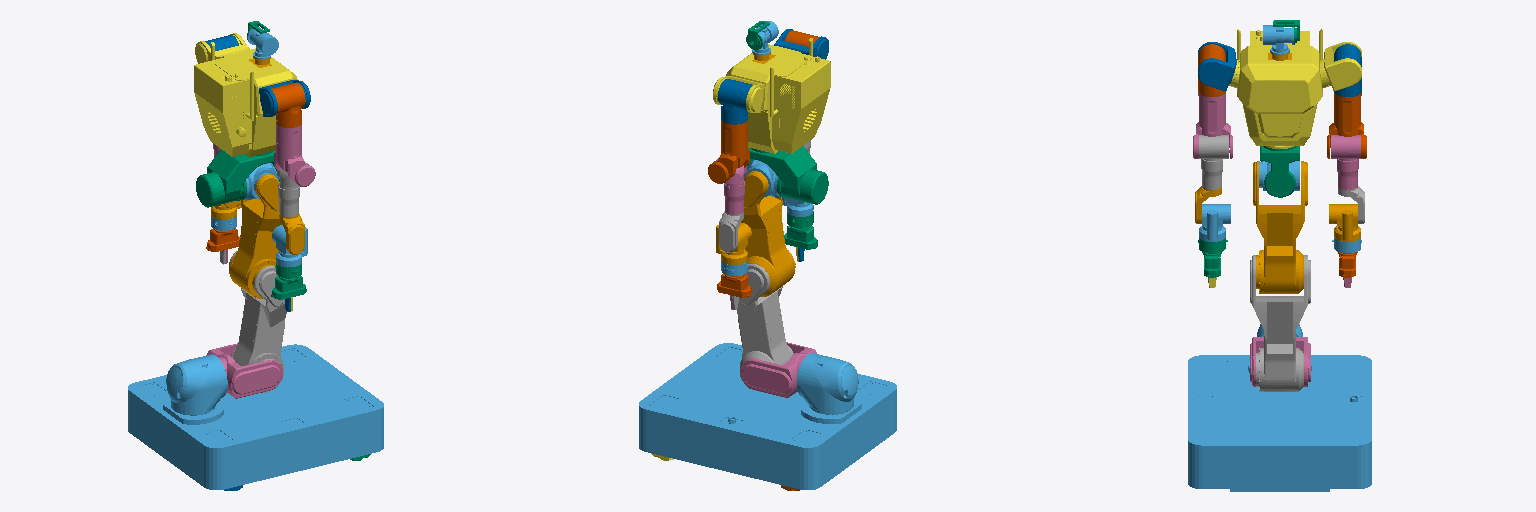
URDF robot description (rby1):
<robot name="rby1"><link name="base_footprint" /><joint name="base_footprint_joint" type="fixed"><parent link="base_footprint" /><child link="base" /><origin rpy="0 0 0" xyz="0.0 0 0" /></joint><link name="base"><visual><geometry><mesh filename="meshes/base.stl" /></geometry></visual></link><link name="wheel_fr_link"><visual><geometry><mesh filename="meshes/MECANUM_WHEEL.stl" /></geometry></visual></link><link name="wheel_fl_link"><visual><geometry><mesh filename="meshes/MECANUM_WHEEL_M.stl" /></geometry></visual></link><link name="wheel_rr_link"><visual><geometry><mesh filename="meshes/MECANUM_WHEEL_M.stl" /></geometry></visual></link><link name="wheel_rl_link"><visual><geometry><mesh filename="meshes/MECANUM_WHEEL.stl" /></geometry></visual></link><link name="link_torso_0"><visual><geometry><mesh filename="meshes/LINK_1.stl" /></geometry></visual></link><link name="link_torso_1"><visual><geometry><mesh filename="meshes/LINK_2.stl" /></geometry></visual></link><link name="link_torso_2"><visual><geometry><mesh filename="meshes/LINK_3.stl" /></geometry></visual></link><link name="link_torso_3"><visual><geometry><mesh filename="meshes/LINK_4.stl" /></geometry></visual></link><link name="link_torso_4"><visual><geometry><mesh filename="meshes/LINK_5.stl" /></geometry></visual></link><link name="link_torso_5"><visual><geometry><mesh filename="meshes/LINK_6.stl" /></geometry></visual></link><link name="link_right_arm_0"><visual><geometry><mesh filename="meshes/LINK_7.stl" /></geometry></visual></link><link name="link_right_arm_1"><visual><geometry><mesh filename="meshes/LINK_8.stl" /></geometry></visual></link><link name="link_right_arm_2"><visual><geometry><mesh filename="meshes/LINK_9.stl" /></geometry></visual></link><link name="link_right_arm_3"><visual><geometry><mesh filename="meshes/LINK_10.stl" /></geometry></visual></link><link name="link_right_arm_4"><visual><geometry><mesh filename="meshes/LINK_11.stl" /></geometry></visual></link><link name="link_right_arm_5"><visual><geometry><mesh filename="meshes/LINK_12_v1.1.stl" /></geometry></visual></link><link name="link_right_arm_6"><visual><geometry><mesh filename="meshes/LINK_13_v1.1.stl" /></geometry></visual></link><link name="link_left_arm_0"><visual><geometry><mesh filename="meshes/LINK_14.stl" /></geometry></visual></link><link name="link_left_arm_1"><visual><geometry><mesh filename="meshes/LINK_15.stl" /></geometry></visual></link><link name="link_left_arm_2"><visual><geometry><mesh filename="meshes/LINK_16.stl" /></geometry></visual></link><link name="link_left_arm_3"><visual><geometry><mesh filename="meshes/LINK_17.stl" /></geometry></visual></link><link name="link_left_arm_4"><visual><geometry><mesh filename="meshes/LINK_18.stl" /></geometry></visual></link><link name="link_left_arm_5"><visual><geometry><mesh filename="meshes/LINK_19_v1.1.stl" /></geometry></visual></link><link name="link_left_arm_6"><visual><geometry><mesh filename="meshes/LINK_20_v1.1.stl" /></geometry></visual></link><link name="ee_right"><visual><geometry><mesh filename="meshes/EE_BODY.stl" /></geometry></visual></link><link name="ee_finger_r1"><visual><geometry><mesh filename="meshes/EE_FINGER.stl" /></geometry></visual></link><link name="ee_finger_r2"><visual><geometry><mesh filename="meshes/EE_FINGER.stl" /></geometry></visual></link><link name="ee_left"><visual><geometry><mesh filename="meshes/EE_BODY.stl" /></geometry></visual></link><link name="ee_finger_l1"><visual><geometry><mesh filename="meshes/EE_FINGER.stl" /></geometry></visual></link><link name="ee_finger_l2"><visual><geometry><mesh filename="meshes/EE_FINGER.stl" /></geometry></visual></link><link name="link_head_0"><visual><geometry><mesh filename="meshes/NECK_0.stl" /></geometry></visual></link><link name="link_head_1"><visual><geometry><mesh filename="meshes/NECK_1.stl" /></geometry></visual></link><link name="link_head_2"><visual><geometry><mesh filename="meshes/NECK_2.stl" /></geometry></visual></link><joint name="wheel_fr" type="continuous"><parent link="base" /><child link="wheel_fr_link" /><origin rpy="0.0 0.0 0.0" xyz="0.243 -0.245 0.076" /><axis xyz="0 1 0" /><limit effort="60.0" velocity="15.707963268" /></joint><joint name="wheel_fl" type="continuous"><parent link="base" /><child link="wheel_fl_link" /><origin rpy="0.0 0.0 0.0" xyz="0.243 0.245 0.076" /><axis xyz="0 1 0" /><limit effort="60.0" velocity="15.707963268" /></joint><joint name="wheel_rr" type="continuous"><parent link="base" /><child link="wheel_rr_link" /><origin rpy="0.0 0.0 0.0" xyz="-0.247 -0.245 0.076" /><axis xyz="0 1 0" /><limit effort="60.0" velocity="15.707963268" /></joint><joint name="wheel_rl" type="continuous"><parent link="base" /><child link="wheel_rl_link" /><origin rpy="0.0 0.0 0.0" xyz="-0.247 0.245 0.076" /><axis xyz="0 1 0" /><limit effort="60.0" velocity="15.707963268" /></joint><joint name="torso_0" type="revolute"><parent link="base" /><child link="link_torso_0" /><origin rpy="0.0 0.0 0.0" xyz="0.0 0.0 0.2965" /><axis xyz="1 0 0" /><limit effort="270.0" lower="-0.261799388" upper="0.261799388" velocity="2.09439510" /></joint><joint name="torso_1" type="revolute"><parent link="link_torso_0" /><child link="link_torso_1" /><origin rpy="0.0 0.0 0.0" xyz="0.0 0.0 0.0" /><axis xyz="0 1 0" /><limit effort="270.0" lower="-0.523598776" upper="1.570796327" velocity="2.09439510" /></joint><joint name="torso_2" type="revolute"><parent link="link_torso_1" /><child link="link_torso_2" /><origin rpy="0.0 0.0 0.0" xyz="0.0 0.0 0.350" /><axis xyz="0 1 0" /><limit effort="270.0" lower="-2.617993878" upper="1.570796327" velocity="2.09439510" /></joint><joint name="torso_3" type="revolute"><parent link="link_torso_2" /><child link="link_torso_3" /><origin rpy="0.0 0.0 0.0" xyz="0.0 0.0 0.350" /><axis xyz="0 1 0" /><limit effort="120.0" lower="-0.785398163" upper="1.570796327" velocity="3.141592654" /></joint><joint name="torso_4" type="revolute"><parent link="link_torso_3" /><child link="link_torso_4" /><origin rpy="0.0 0.0 0.0" xyz="0.0 0.0 0.0" /><axis xyz="1 0 0" /><limit effort="120.0" lower="-0.523598776" upper="0.523598776" velocity="3.141592654" /></joint><joint name="torso_5" type="revolute"><parent link="link_torso_4" /><child link="link_torso_5" /><origin rpy="0.0 0.0 0.0" xyz="0.0 0.0 0.309426548461" /><axis xyz="0 0 1" /><limit effort="120.0" lower="-2.35619449" upper="2.35619449" velocity="3.141592654" /></joint><joint name="right_arm_0" type="revolute"><parent link="link_torso_5" /><child link="link_right_arm_0" /><origin rpy="0.0 0.0 0.0" xyz="0.0 -0.220 0.080073451539 " /><axis xyz="0.0 0.93969262 -0.34202014" /><limit effort="70.0" lower="-3.141592654" upper="3.141592654" velocity="3.141592654" /></joint><joint name="right_arm_1" type="revolute"><parent link="link_right_arm_0" /><child link="link_right_arm_1" /><origin rpy="0.0 0.0 0.0" xyz="0.0 0.0 0.0" /><axis xyz="1 0 0" /><limit effort="70.0" lower="-3.141592654" upper="0.017453293" velocity="3.141592654" /></joint><joint name="right_arm_2" type="revolute"><parent link="link_right_arm_1" /><child link="link_right_arm_2" /><origin rpy="0.0 0.0 0.0" xyz="0.0 0.0 0.0" /><axis xyz="0 0 1" /><limit effort="70.0" lower="-3.141592654" upper="3.141592654" velocity="3.141592654" /></joint><joint name="right_arm_3" type="revolute"><parent link="link_right_arm_2" /><child link="link_right_arm_3" /><origin rpy="0.0 0.0 0.0" xyz="0.031 0.0 -0.276" /><axis xyz="0 1 0" /><limit effort="40.0" lower="-2.617993878" upper="0.017453293" velocity="3.141592654" /></joint><joint name="right_arm_4" type="revolute"><parent link="link_right_arm_3" /><child link="link_right_arm_4" /><origin rpy="0.0 0.0 0.0" xyz="-0.031 0.0 -0.256" /><axis xyz="0 0 1" /><limit effort="10.0" lower="-3.141592654" upper="3.141592654" velocity="6.283185308" /></joint><joint name="right_arm_5" type="revolute"><parent link="link_right_arm_4" /><child link="link_right_arm_5" /><origin rpy="0.0 0.0 0.0" xyz="0.0 0.0 0.0" /><axis xyz="0 1 0" /><limit effort="10.0" lower="-1.570796327" upper="1.919862177" velocity="6.283185308" /></joint><joint name="right_arm_6" type="revolute"><parent link="link_right_arm_5" /><child link="link_right_arm_6" /><origin rpy="0.0 0.0 0.0" xyz="0.0 0.0 0.0" /><axis xyz="0 0 1" /><limit effort="8.0" lower="-2.705260340" upper="2.705260340" velocity="2.094395102" /></joint><joint name="left_arm_0" type="revolute"><parent link="link_torso_5" /><child link="link_left_arm_0" /><origin rpy="0.0 0.0 0.0" xyz="0.0 0.220 0.080073452 " /><axis xyz="0.0 0.93969262 0.34202014" /><limit effort="70.0" lower="-3.141592654" upper="3.141592654" velocity="3.141592654" /></joint><joint name="left_arm_1" type="revolute"><parent link="link_left_arm_0" /><child link="link_left_arm_1" /><origin rpy="0.0 0.0 0.0" xyz="0.0 0.0 0.0" /><axis xyz="1 0 0" /><limit effort="70.0" lower="-0.017453293" upper="3.141592654" velocity="3.141592654" /></joint><joint name="left_arm_2" type="revolute"><parent link="link_left_arm_1" /><child link="link_left_arm_2" /><origin rpy="0.0 0.0 0.0" xyz="0.0 0.0 0.0" /><axis xyz="0 0 1" /><limit effort="70.0" lower="-3.141592654" upper="3.141592654" velocity="3.141592654" /></joint><joint name="left_arm_3" type="revolute"><parent link="link_left_arm_2" /><child link="link_left_arm_3" /><origin rpy="0.0 0.0 0.0" xyz="0.031 0.0 -0.276" /><axis xyz="0 1 0" /><limit effort="40.0" lower="-2.617993878" upper="0.017453293" velocity="3.141592654" /></joint><joint name="left_arm_4" type="revolute"><parent link="link_left_arm_3" /><child link="link_left_arm_4" /><origin rpy="0.0 0.0 0.0" xyz="-0.031 0.0 -0.256" /><axis xyz="0 0 1" /><limit effort="10.0" lower="-3.141592654" upper="3.141592654" velocity="6.283185308" /></joint><joint name="left_arm_5" type="revolute"><parent link="link_left_arm_4" /><child link="link_left_arm_5" /><origin rpy="0.0 0.0 0.0" xyz="0.0 0.0 0.0" /><axis xyz="0 1 0" /><limit effort="10.0" lower="-1.570796327" upper="1.919862177" velocity="6.283185308" /></joint><joint name="left_arm_6" type="revolute"><parent link="link_left_arm_5" /><child link="link_left_arm_6" /><origin rpy="0.0 0.0 0.0" xyz="0.0 0.0 0.0" /><axis xyz="0 0 1" /><limit effort="8.0" lower="-2.705260340" upper="2.705260340" velocity="2.094395102" /></joint><joint name="tool_right" type="fixed"><parent link="link_right_arm_6" /><child link="ee_right" /><origin rpy="0.0 0.0 0.0" xyz="0.0 0.0 -0.1261" /><axis xyz="0 0 1" /></joint><joint name="gripper_finger_r1" type="prismatic"><parent link="ee_right" /><child link="ee_finger_r1" /><origin rpy="0.0 0.0 0.0" xyz="0.003 0.0 -0.075" /><axis xyz="-1 0 0" /><limit effort="1000" lower="-0.05" upper="0" velocity="0.05" /></joint><joint name="gripper_finger_r2" type="prismatic"><parent link="ee_right" /><child link="ee_finger_r2" /><origin rpy="0.0 0.0 3.1415926535" xyz="-0.003 0.0 -0.075" /><axis xyz="1 0 0" /><limit effort="1000" lower="0" upper="0.05" velocity="0.05" /></joint><joint name="tool_left" type="fixed"><parent link="link_left_arm_6" /><child link="ee_left" /><origin rpy="0.0 0.0 0" xyz="0.0 0.0 -0.1261" /><axis xyz="0 0 1" /></joint><joint name="gripper_finger_l1" type="prismatic"><parent link="ee_left" /><child link="ee_finger_l1" /><origin rpy="0.0 0.0 0.0" xyz="0.003 0.0 -0.075" /><axis xyz="-1 0 0" /><limit effort="1000" lower="-0.05" upper="0" velocity="0.05" /></joint><joint name="gripper_finger_l2" type="prismatic"><parent link="ee_left" /><child link="ee_finger_l2" /><origin rpy="0.0 0.0 3.1415926535" xyz="-0.003 0.0 -0.075" /><axis xyz="1 0 0" /><limit effort="1000" lower="0" upper="0.05" velocity="0.05" /></joint><joint name="head_base" type="fixed"><parent link="link_torso_5" /><child link="link_head_0" /><origin rpy="0.0 0.0 0.0" xyz="0.022 0.0 0.120073451525" /><axis xyz="0 0 1" /></joint><joint name="head_0" type="revolute"><parent link="link_head_0" /><child link="link_head_1" /><origin rpy="0.0 0.0 0.0" xyz="0.0 0.0 0.080" /><axis xyz="0 0 1" /><limit effort="1000" lower="-1.57" upper="1.57" velocity="3.14" /></joint><joint name="head_1" type="revolute"><parent link="link_head_1" /><child link="link_head_2" /><origin rpy="0.0 0.0 0.0" xyz="0.0 0.0 0.0" /><axis xyz="0 1 0" /><limit effort="1000" lower="-1.57" upper="1.57" velocity="3.14" /></joint><link name="head_camera_link" /><joint name="head_camera_joint" type="fixed"><parent link="link_head_2" /><child link="head_camera_link" /><origin rpy="0 0 0" xyz="0.022 0 0.04" /></joint><link name="head_camera_optical_frame" /><joint name="head_camera_optical_joint" type="fixed"><parent link="head_camera_link" /><child link="head_camera_optical_frame" /><origin rpy="-1.5707963267948966 0 -1.5707963267948966" xyz="0 0 0" /></joint><link name="imu_link" /><joint name="imu_joint" type="fixed"><parent link="base" /><child link="imu_link" /><origin rpy="0 0 0" xyz="0 0 0.2" /></joint></robot>

--- What the picture shows (computed from the rendered views, not written in the file) ---
The picture shows the robot from 3 angles, left to right: view 1: azimuth 30°, elevation 25°; view 2: azimuth 150°, elevation 25°; view 3: azimuth 270°, elevation 25°; orthographic projection.
Model rby1 with 38 links and 37 joints (22 revolute, 4 continuous, 4 prismatic, 7 fixed), rooted at base_footprint, posed all joints at 0.
Links seen in each view (by area): view 1: base, link_torso_5, link_torso_2, link_torso_1, link_torso_4, link_torso_0, link_right_arm_2, link_right_arm_1, link_right_arm_3, link_right_arm_4, link_right_arm_5, link_right_arm_0 (+4 smaller); view 2: base, link_torso_5, link_torso_2, link_torso_1, link_torso_4, link_torso_0, link_left_arm_2, link_left_arm_1, link_left_arm_3, link_left_arm_5, link_left_arm_4, link_left_arm_0 (+3 smaller); view 3: base, link_torso_5, link_torso_1, link_torso_2, link_torso_4, link_right_arm_2, link_left_arm_2, link_right_arm_3, link_left_arm_3, link_left_arm_0, link_right_arm_0, link_right_arm_5 (+5 smaller).
Link boxes in pixels (x1,y1,x2,y2): base: (128,344,383,489); link_torso_5: (194,42,297,156); link_torso_2: (229,174,282,298); link_torso_1: (229,251,286,392); link_torso_4: (196,149,279,207); link_torso_0: (207,343,282,398); link_right_arm_2: (274,124,315,186); link_right_arm_1: (271,83,305,127); link_right_arm_3: (277,162,308,216); link_right_arm_4: (279,213,304,254); link_right_arm_5: (272,225,307,267); link_right_arm_0: (259,80,310,116); base: (639,343,896,489); link_torso_5: (726,38,830,153); link_torso_2: (741,171,795,296); link_torso_1: (737,250,793,391); link_torso_4: (744,146,828,204); link_torso_0: (740,342,816,397); link_left_arm_2: (708,120,749,183); link_left_arm_1: (718,79,752,124); link_left_arm_3: (714,158,746,214); link_left_arm_5: (716,223,751,264); link_left_arm_4: (719,211,743,252); link_left_arm_0: (713,76,764,112); base: (1188,324,1371,491); link_torso_5: (1229,29,1330,148); link_torso_1: (1250,255,1310,391); link_torso_2: (1253,161,1307,293); link_torso_4: (1260,146,1299,197); link_right_arm_2: (1193,92,1232,158); link_left_arm_2: (1327,92,1366,158); link_right_arm_3: (1199,135,1228,189); link_left_arm_3: (1331,135,1360,189); link_left_arm_0: (1323,42,1361,90); link_right_arm_0: (1198,42,1236,90); link_right_arm_5: (1199,204,1230,241).
Bounding box of the posed robot: 0.695 × 0.6 × 1.55 m (x, y, z).
34 mesh visuals loaded from 28 distinct referenced files (28 binary STL).
